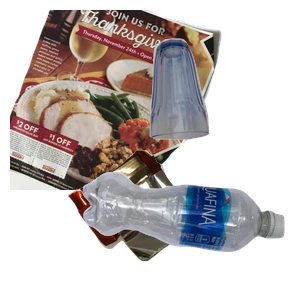glass: (147, 36, 300, 168)
paper: (10, 10, 224, 190)
plastic: (80, 169, 300, 300)
trash: (65, 148, 258, 300)
